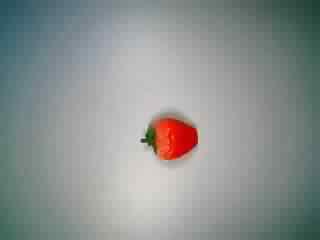strawberry: (133, 106, 204, 166)
